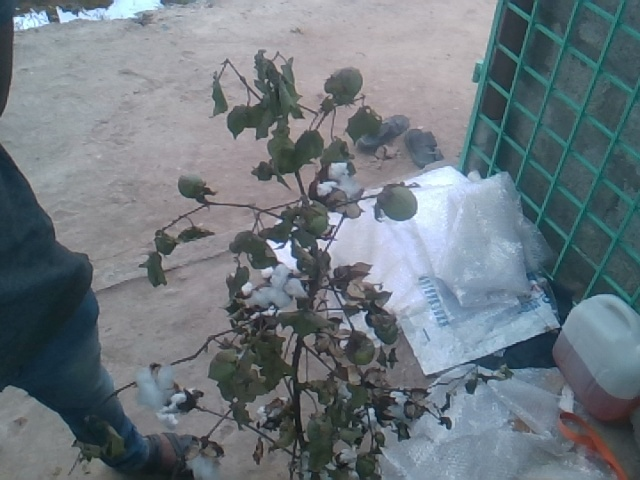cotton: (246, 264, 300, 311), (130, 364, 173, 411)
